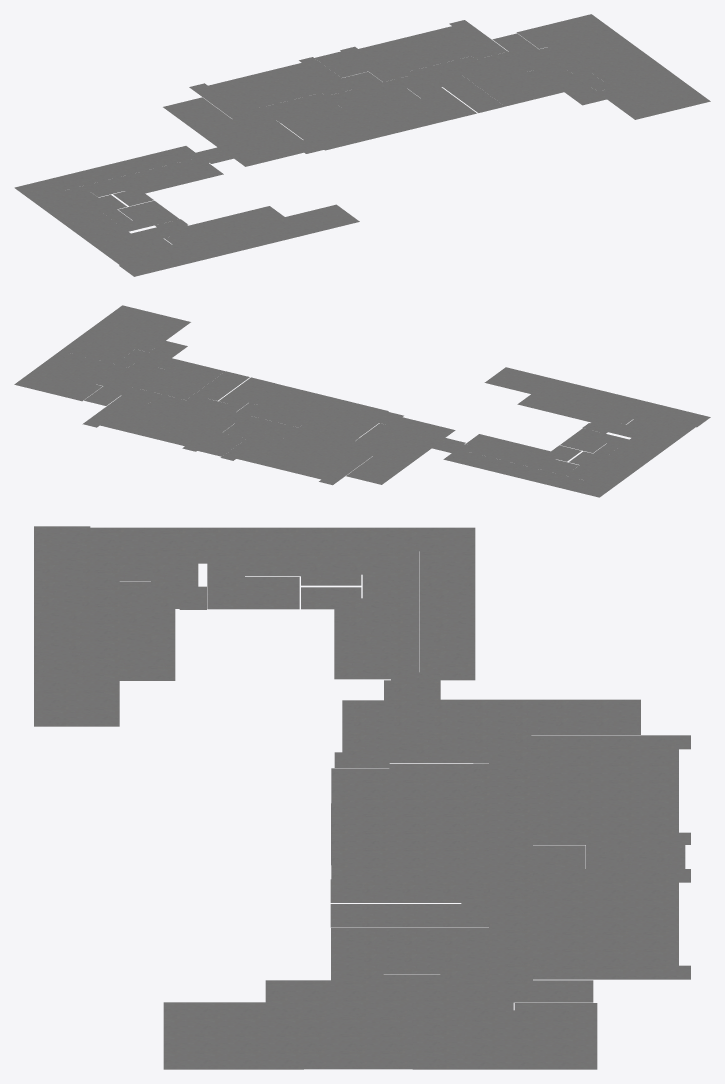
File: envFirstFloor_Ceiling.fbx
3 views of the same model, one above another, from view 1: azimuth 30°, elevation 25°; view 2: azimuth 150°, elevation 25°; view 3: azimuth 270°, elevation 25° (orthographic). The views are drawn at different scales.
Visible parts, largest first — view 1: envFirstFloor_Ceiling; view 2: envFirstFloor_Ceiling; view 3: envFirstFloor_Ceiling.
Part boxes in pixels (x1,y1,x2,y2): envFirstFloor_Ceiling: [14, 14, 710, 276]; envFirstFloor_Ceiling: [14, 305, 710, 497]; envFirstFloor_Ceiling: [34, 526, 690, 1069].
Size of the model in its own units: 7569 by 1.17 by 3870.
Materials: 1 (1 with a texture image).
